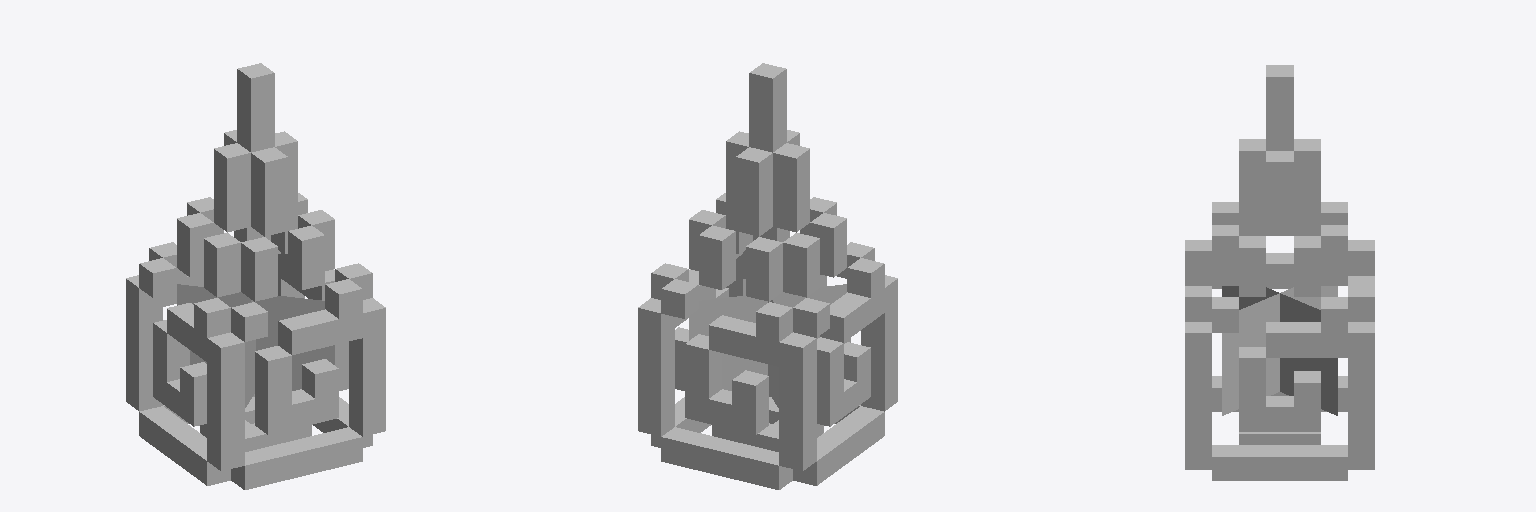
Rendered from mythic_fire.obj.
3 views of the same model, side by side, from view 1: azimuth 30°, elevation 25°; view 2: azimuth 150°, elevation 25°; view 3: azimuth 270°, elevation 25° (orthographic).
Size of the model in its own units: 0.2188 by 0.4688 by 0.2188.